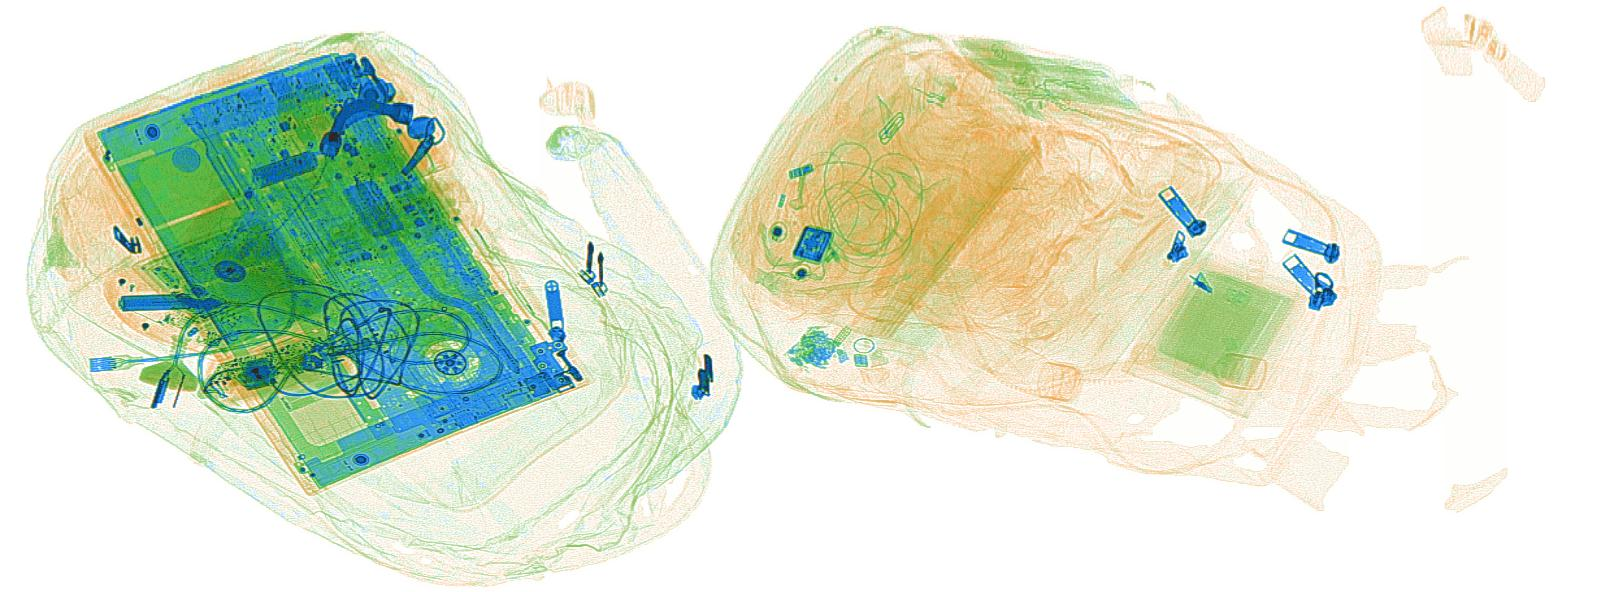battery: (253, 148, 319, 189), (115, 291, 194, 314)
